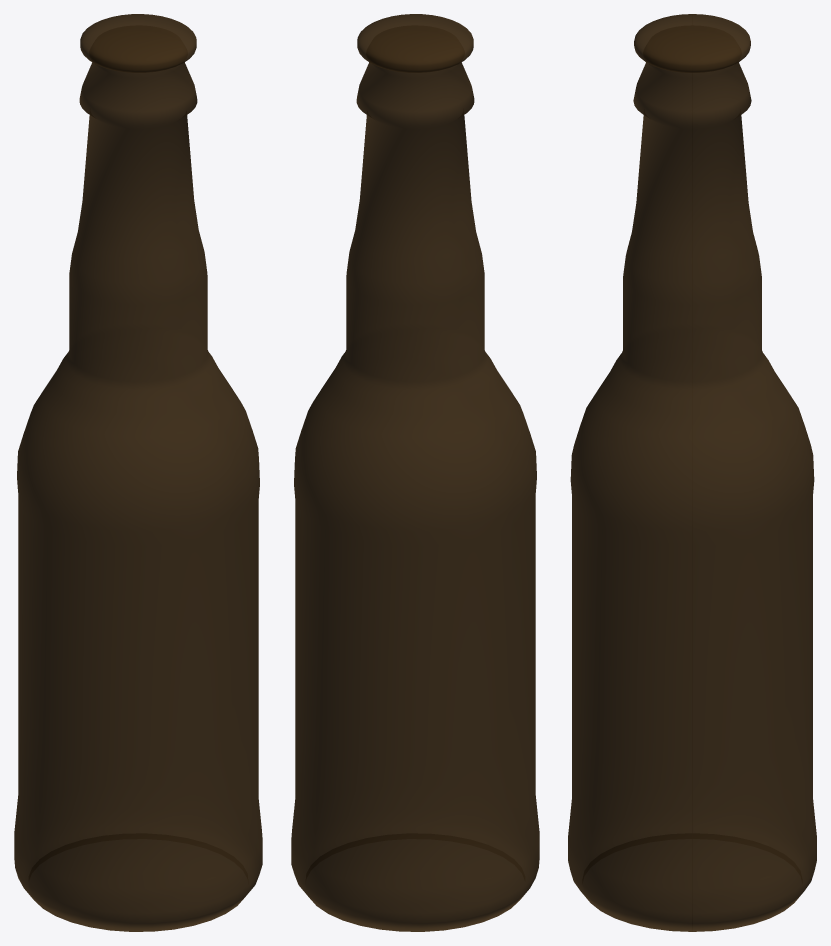
Rendered from bearBottle1.gltf.
3 renders of one model, left to right at view 1: azimuth 30°, elevation 25°; view 2: azimuth 150°, elevation 25°; view 3: azimuth 270°, elevation 25°, orthographic.
Parts seen in each view (by area): view 1: Cylinder, Cylinder.001; view 2: Cylinder, Cylinder.001; view 3: Cylinder, Cylinder.001.
Part boxes in pixels (x1=…): Cylinder: x1=14, y1=26, x2=262, y2=931; Cylinder.001: x1=80, y1=14, x2=196, y2=72; Cylinder: x1=291, y1=26, x2=539, y2=931; Cylinder.001: x1=357, y1=14, x2=473, y2=72; Cylinder: x1=568, y1=26, x2=816, y2=931; Cylinder.001: x1=634, y1=14, x2=750, y2=72.
Bounding box in the file's own units: 1.22 × 4.63 × 1.22.
